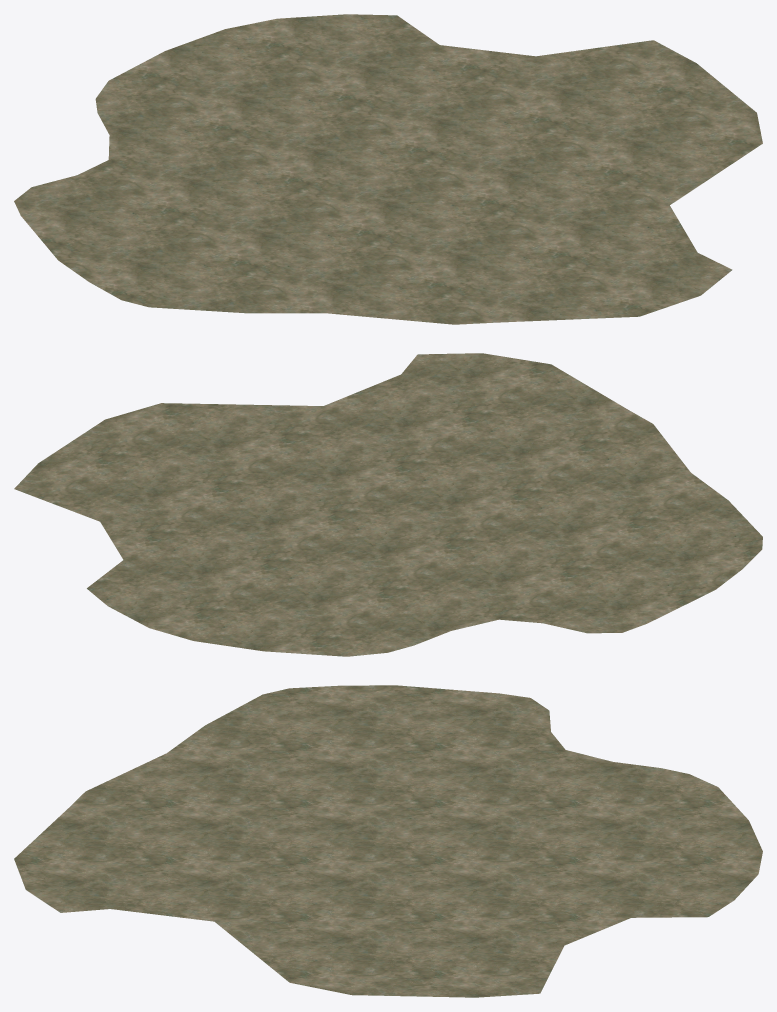
Rendered from EKH_JAIL_PS_JA_CAVE_FLOOR84746.fbx.
3 renders of one model, top to bottom at view 1: azimuth 30°, elevation 25°; view 2: azimuth 150°, elevation 25°; view 3: azimuth 270°, elevation 25°, orthographic. The views are drawn at different scales.
Visible parts, largest first — view 1: EKH_JAIL_PS_JA_CAVE_FLOOR84746; view 2: EKH_JAIL_PS_JA_CAVE_FLOOR84746; view 3: EKH_JAIL_PS_JA_CAVE_FLOOR84746.
Part boxes in pixels (bbox=[...]): EKH_JAIL_PS_JA_CAVE_FLOOR84746: bbox=[14, 14, 762, 324]; EKH_JAIL_PS_JA_CAVE_FLOOR84746: bbox=[14, 353, 762, 656]; EKH_JAIL_PS_JA_CAVE_FLOOR84746: bbox=[14, 685, 762, 997].
Bounding box in the file's own units: 109873 × 0.0242 × 111321.
1 material, 1 textured.
